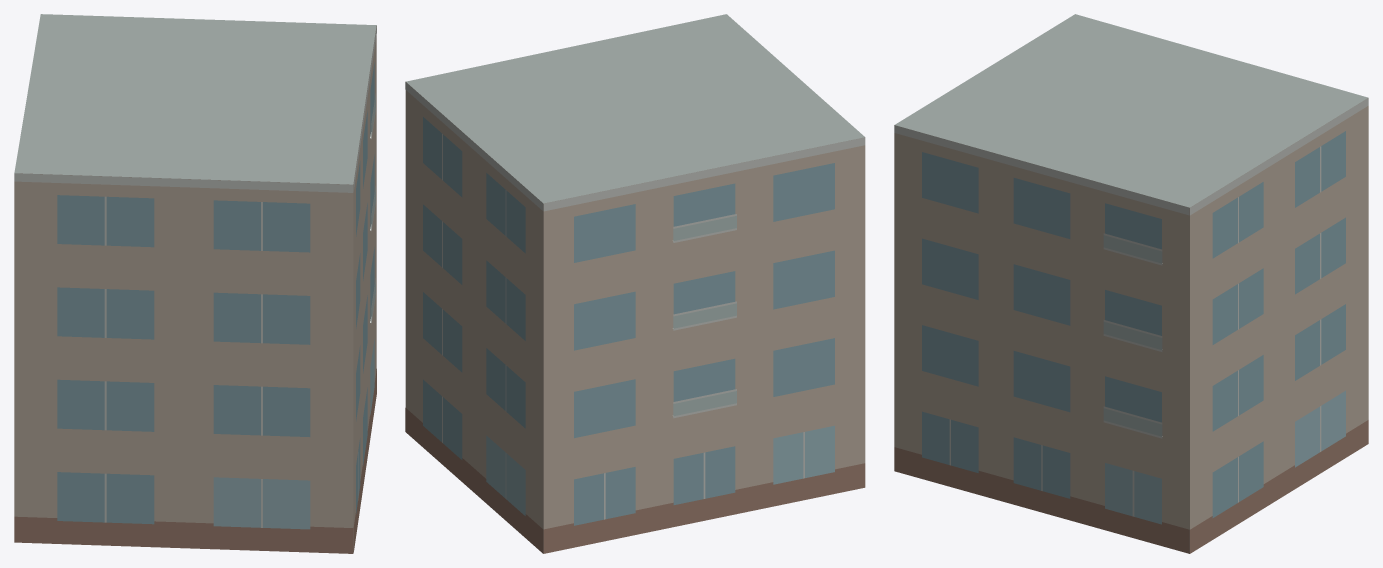
Rendered from survey-upis-32514638.glb.
3 views of the same model, side by side, from view 1: azimuth 30°, elevation 25°; view 2: azimuth 150°, elevation 25°; view 3: azimuth 270°, elevation 25° (orthographic). The views are drawn at different scales.
Parts seen in each view (by area): view 1: survey-upis-32514638.tmp; view 2: survey-upis-32514638.tmp; view 3: survey-upis-32514638.tmp.
Part boxes in pixels (bbox=[...]): survey-upis-32514638.tmp: bbox=[14, 14, 376, 553]; survey-upis-32514638.tmp: bbox=[405, 14, 865, 553]; survey-upis-32514638.tmp: bbox=[894, 14, 1368, 553].
Size of the model in its own units: 12.85 by 10.7 by 13.29.
